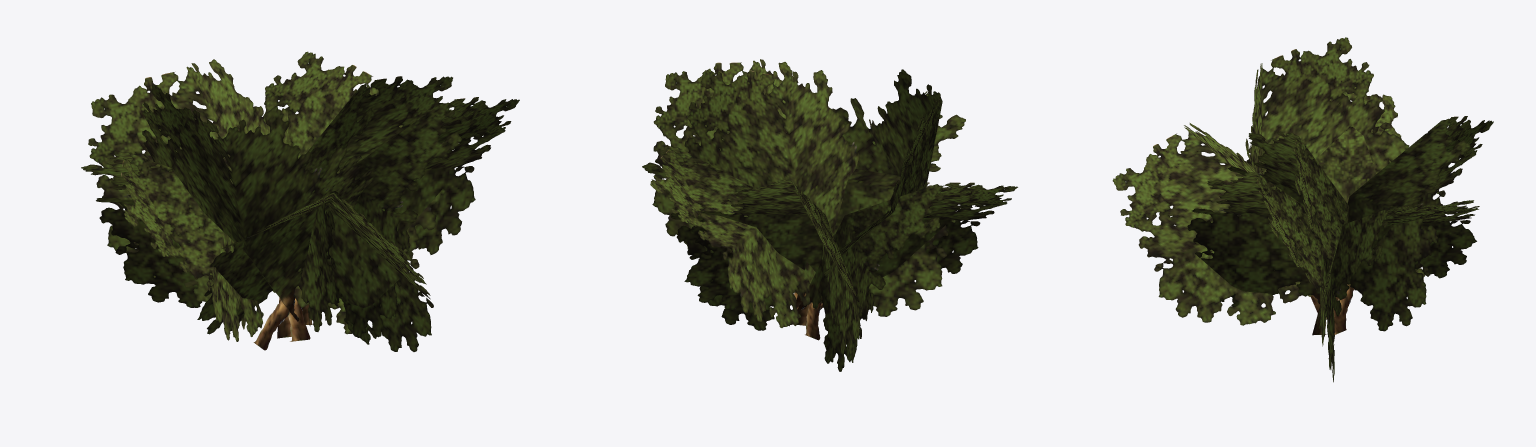
The model's file is mbushreg_1.dae.
3 views of the same model, side by side, from view 1: azimuth 30°, elevation 25°; view 2: azimuth 150°, elevation 25°; view 3: azimuth 270°, elevation 25° (orthographic). The views are drawn at different scales.
Parts seen in each view (by area): view 1: mbushreg_1; view 2: mbushreg_1; view 3: mbushreg_1.
Boxes of the visible parts, x1=… form: mbushreg_1: x1=81, y1=51, x2=519, y2=351; mbushreg_1: x1=642, y1=59, x2=1017, y2=371; mbushreg_1: x1=1112, y1=37, x2=1493, y2=382.
Bounding box in the file's own units: 4.75 × 4.57 × 3.87.
1 material, 1 textured.
